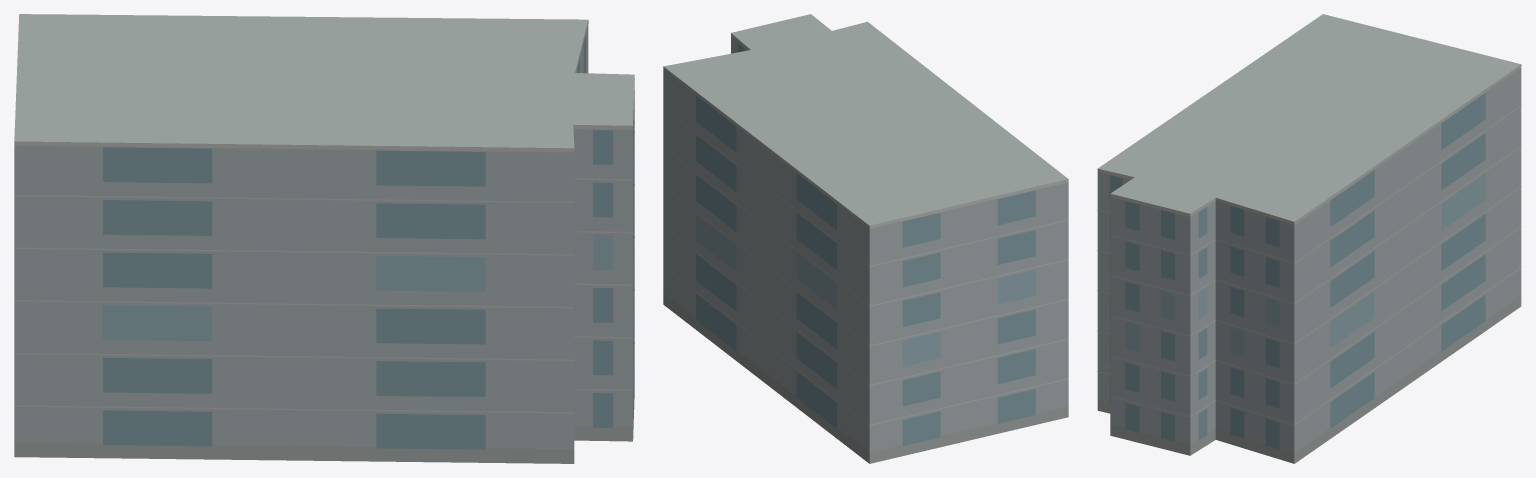
Rendered from survey-upis-32881446.glb.
3 renders of one model, left to right at view 1: azimuth 30°, elevation 25°; view 2: azimuth 150°, elevation 25°; view 3: azimuth 270°, elevation 25°, orthographic. The views are drawn at different scales.
Parts seen in each view (by area): view 1: survey-upis-32881446.tmp; view 2: survey-upis-32881446.tmp; view 3: survey-upis-32881446.tmp.
Boxes of the visible parts, x1,y1,x2,y2 form: survey-upis-32881446.tmp: [14, 14, 634, 463]; survey-upis-32881446.tmp: [663, 14, 1068, 463]; survey-upis-32881446.tmp: [1097, 14, 1521, 463].
Size of the model in its own units: 33.73 by 18.3 by 29.07.
